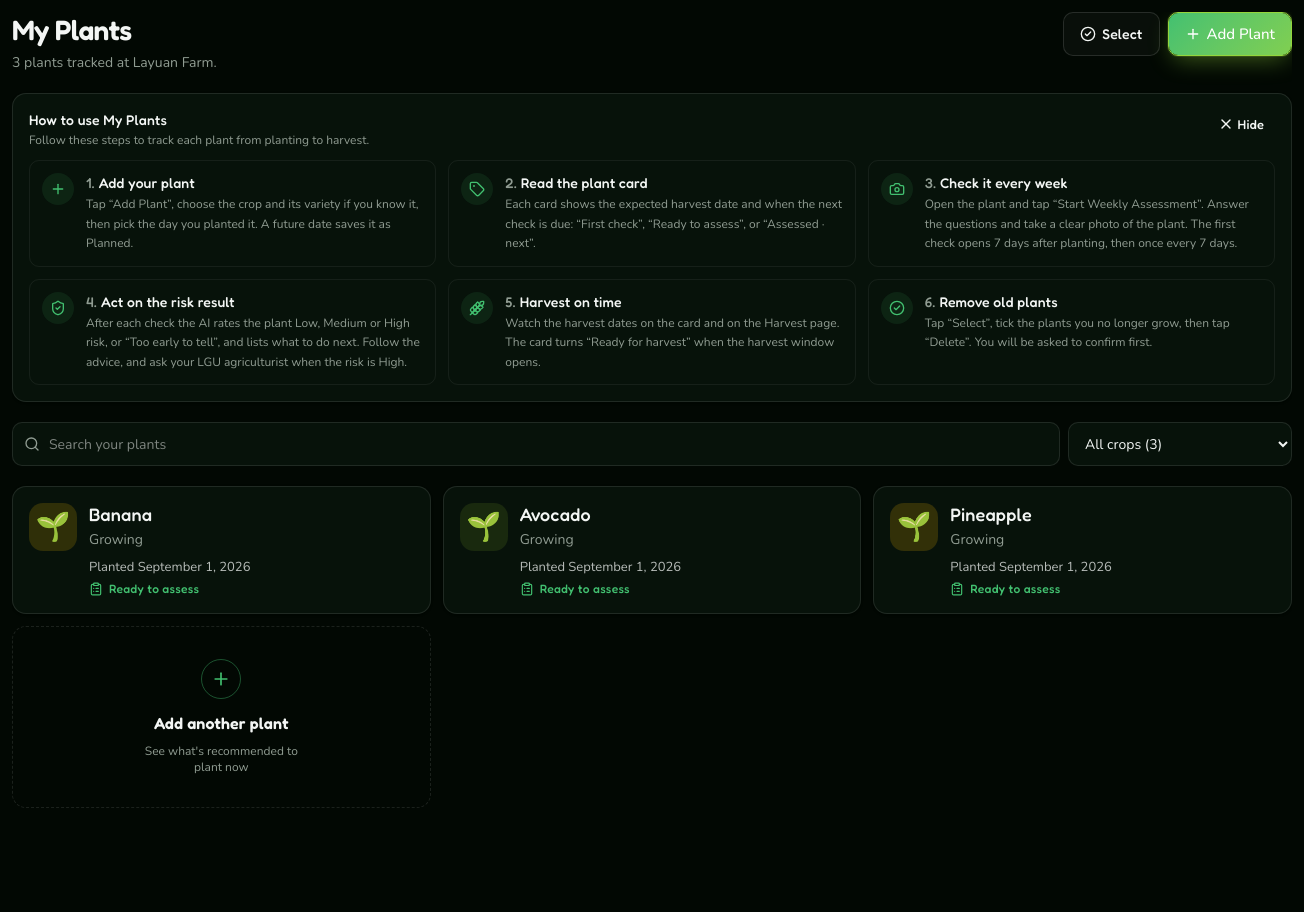
Test: My Plants › turns each card into a checkbox in selection mode
The image size is (1304, 912).
Click the button "Select" at (1111, 34), box [1063,12,1160,56]
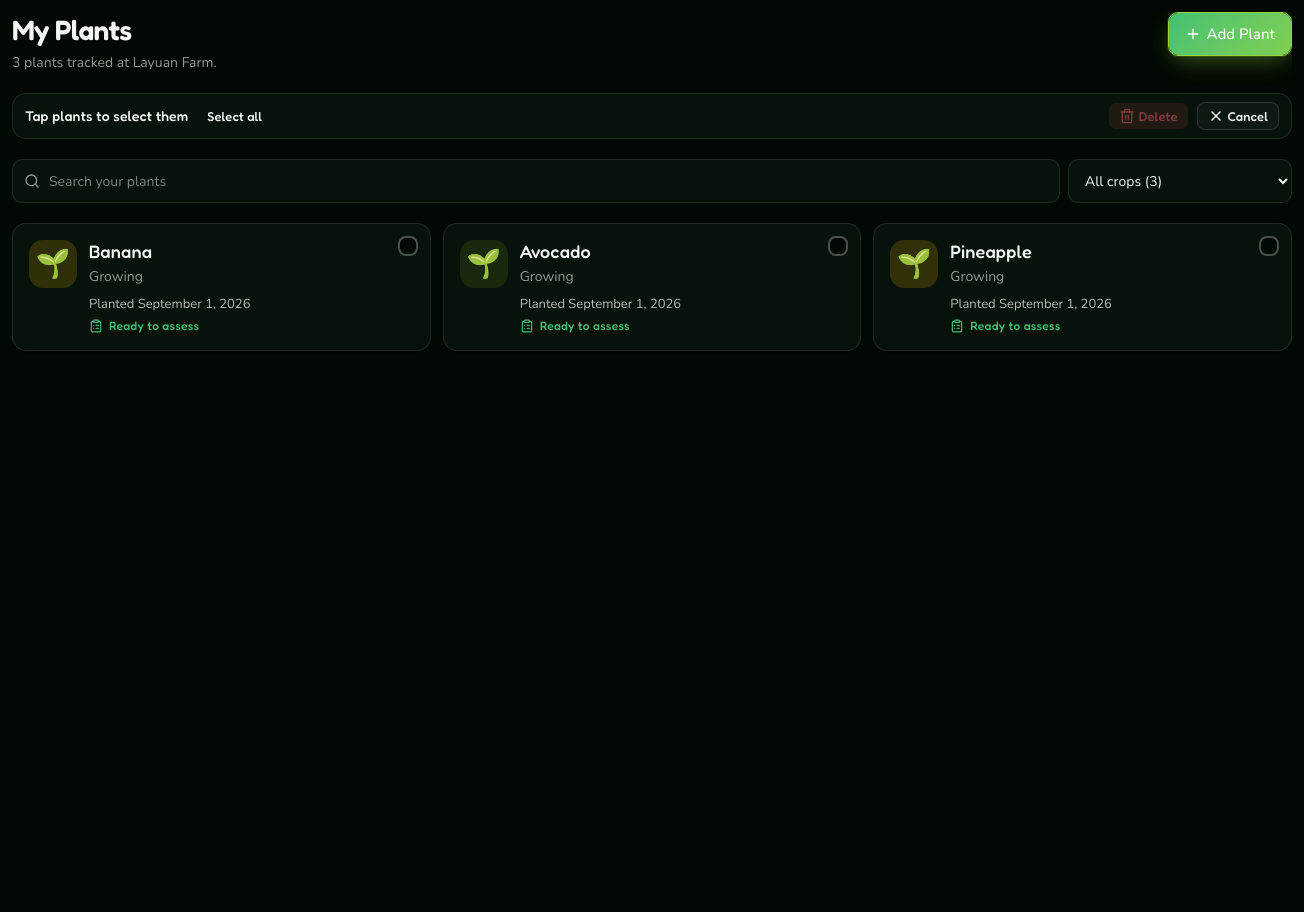
Click the checkbox named "Select Banana" at (221, 287), box [12,223,431,351]
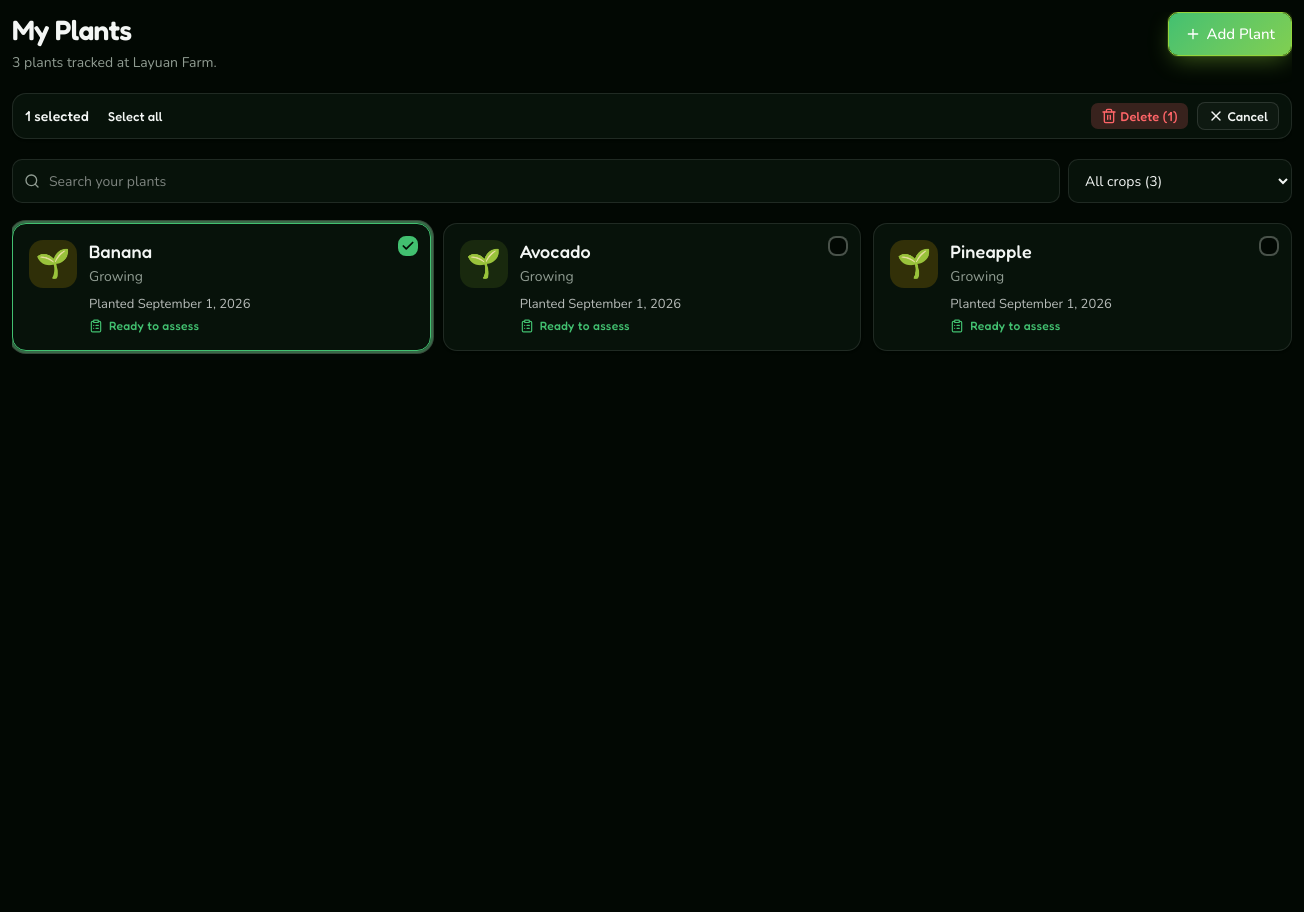
Check: the element named "Selected plants" shows "1 selected", box [25,107,89,124]
